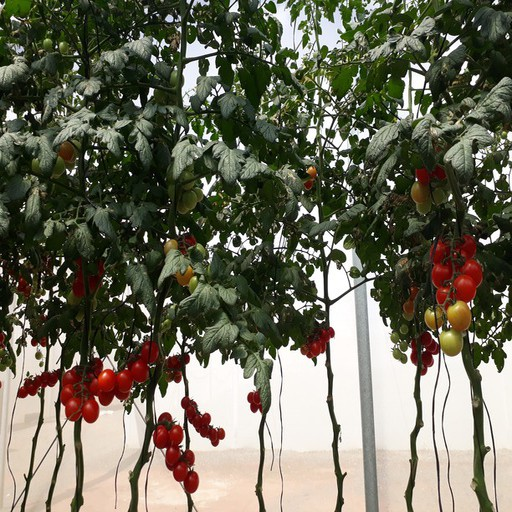green tomato bunch: (164, 149, 204, 211)
mixed tomato bunch: (387, 264, 418, 363), (409, 136, 447, 214), (164, 236, 212, 285)
red tomato bunch: (98, 340, 159, 405), (153, 411, 200, 495), (432, 232, 483, 305), (59, 355, 107, 424), (13, 275, 48, 348), (181, 396, 226, 446), (293, 317, 336, 359), (410, 332, 441, 376), (76, 252, 103, 295), (246, 391, 271, 415)
